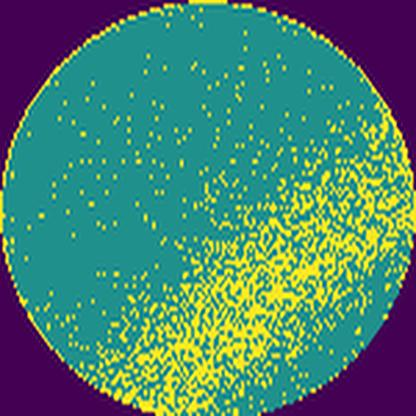Random: (68, 97, 414, 416)
